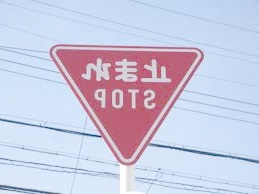Regulatory_sign_triangle: (47, 37, 211, 169)
